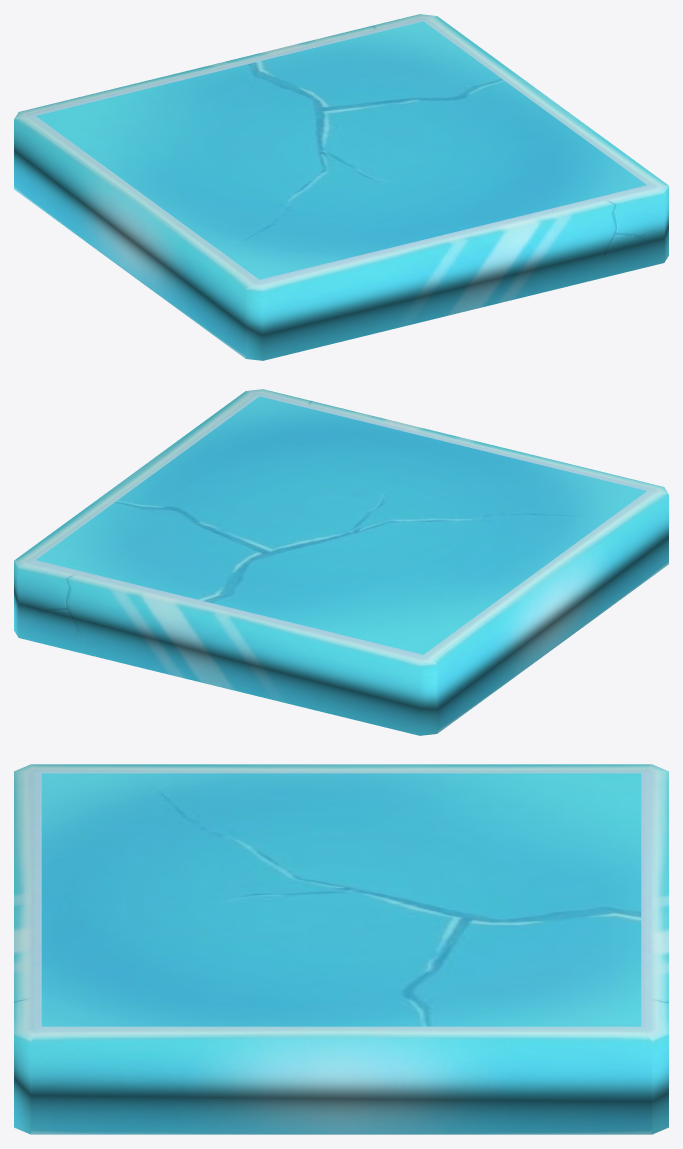
Rendered from iceTile06.glb.
3 views of the same model, one above another, from view 1: azimuth 30°, elevation 25°; view 2: azimuth 150°, elevation 25°; view 3: azimuth 270°, elevation 25° (orthographic). The views are drawn at different scales.
Visible parts, largest first — view 1: IceTile06; view 2: IceTile06; view 3: IceTile06.
Boxes of the visible parts, bbox=[...] form: IceTile06: bbox=[14, 14, 668, 360]; IceTile06: bbox=[14, 389, 668, 735]; IceTile06: bbox=[14, 764, 668, 1134].
Size of the model in its own units: 3 by 0.5 by 3.
1 material, 1 textured.
